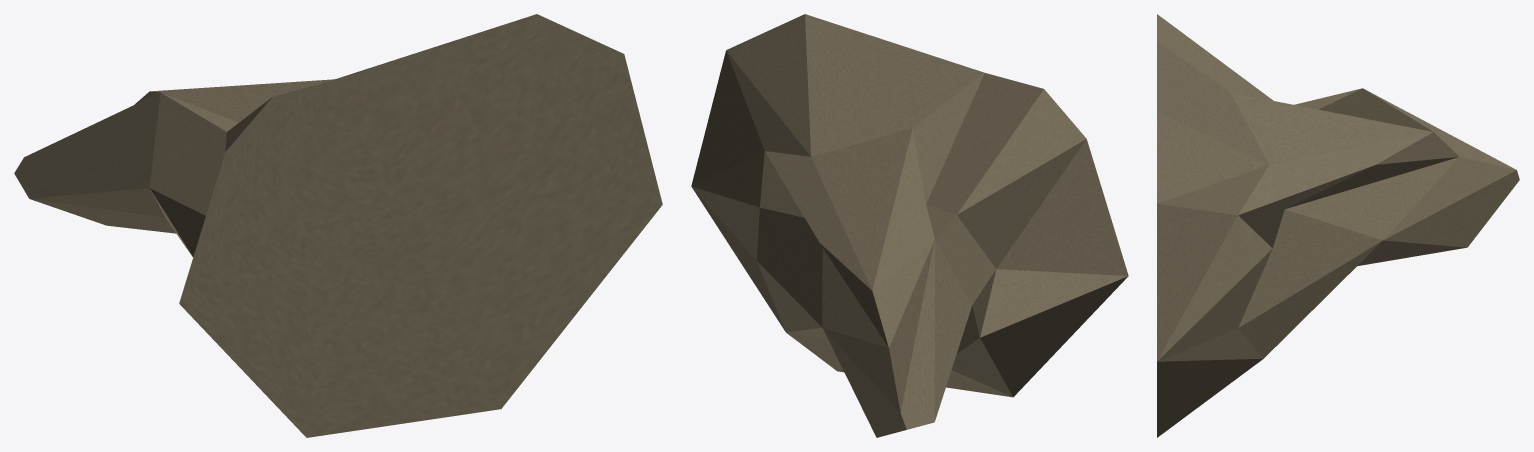
File: all_share_rock_9.FBX
3 views of the same model, side by side, from view 1: azimuth 30°, elevation 25°; view 2: azimuth 150°, elevation 25°; view 3: azimuth 270°, elevation 25° (orthographic). The views are drawn at different scales.
Parts seen in each view (by area): view 1: desert_rock_1.001; view 2: desert_rock_1.001; view 3: desert_rock_1.001.
Boxes of the visible parts, x1,y1,x2,y2 form: desert_rock_1.001: (14, 14, 662, 437); desert_rock_1.001: (691, 14, 1128, 437); desert_rock_1.001: (1157, 14, 1519, 437).
Bounding box in the file's own units: 346 × 264 × 254.
